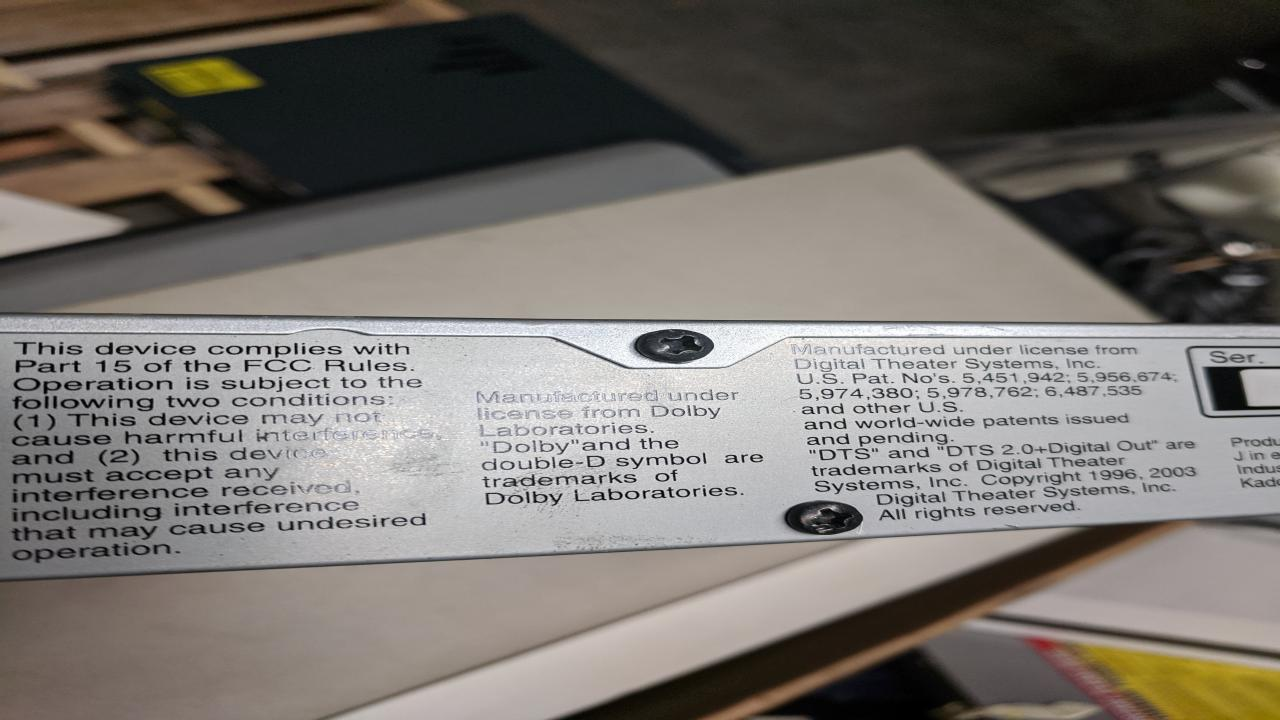CRS: (635, 329, 717, 364), (789, 501, 863, 535)
